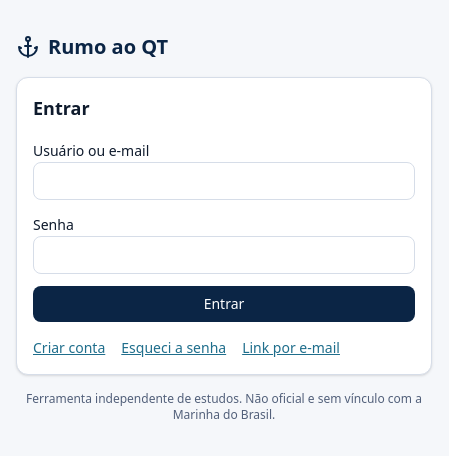
Auth › cadastro exige e-mail válido e senha de 8+ caracteres
Click the button "Criar conta" at {"x": 69, "y": 348}, box [33,338,105,358]
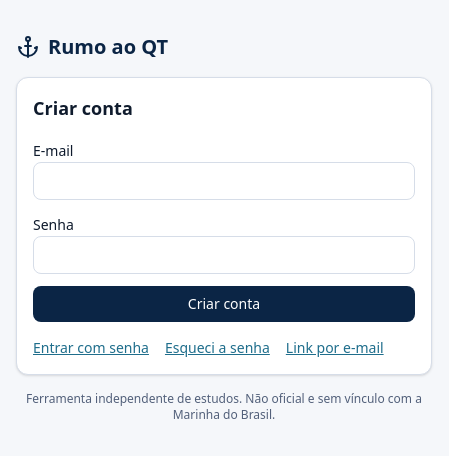
Type "moraes" into the field labelled "E-mail" at {"x": 224, "y": 181}, box [33,162,415,200]
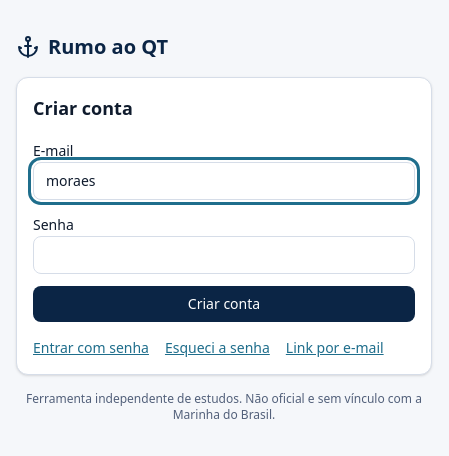
Type "123" into the password field labelled "Senha" at {"x": 224, "y": 255}, box [33,236,415,274]
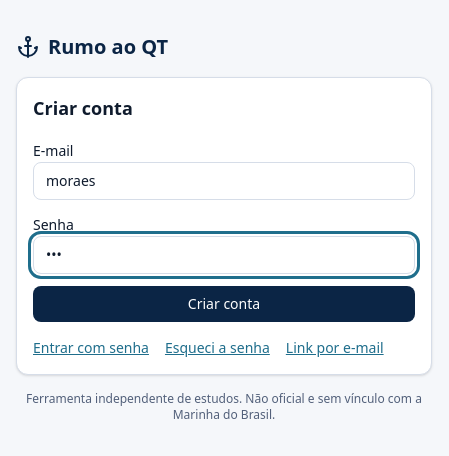
Click the button "Criar conta" at {"x": 224, "y": 304}, box [33,286,415,322]
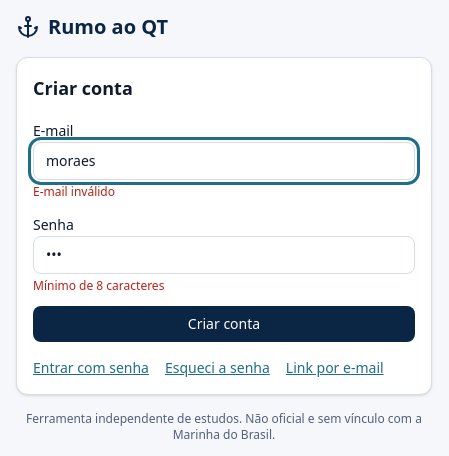
Result: the text "E-mail inválido" is shown at [33,183,115,200]
Result: the text "Mínimo de 8 caracteres" is shown at [33,277,164,294]
